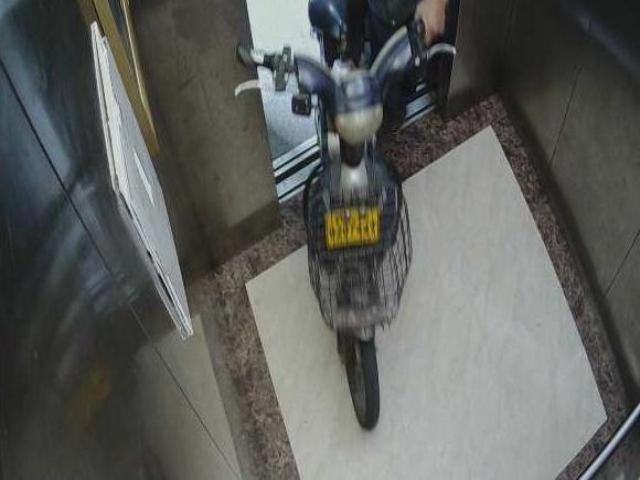emotor: (238, 5, 434, 440)
